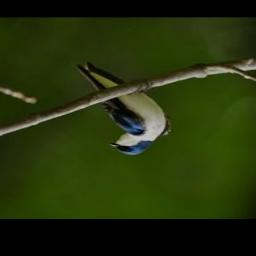Swallow: (74, 61, 172, 157)
